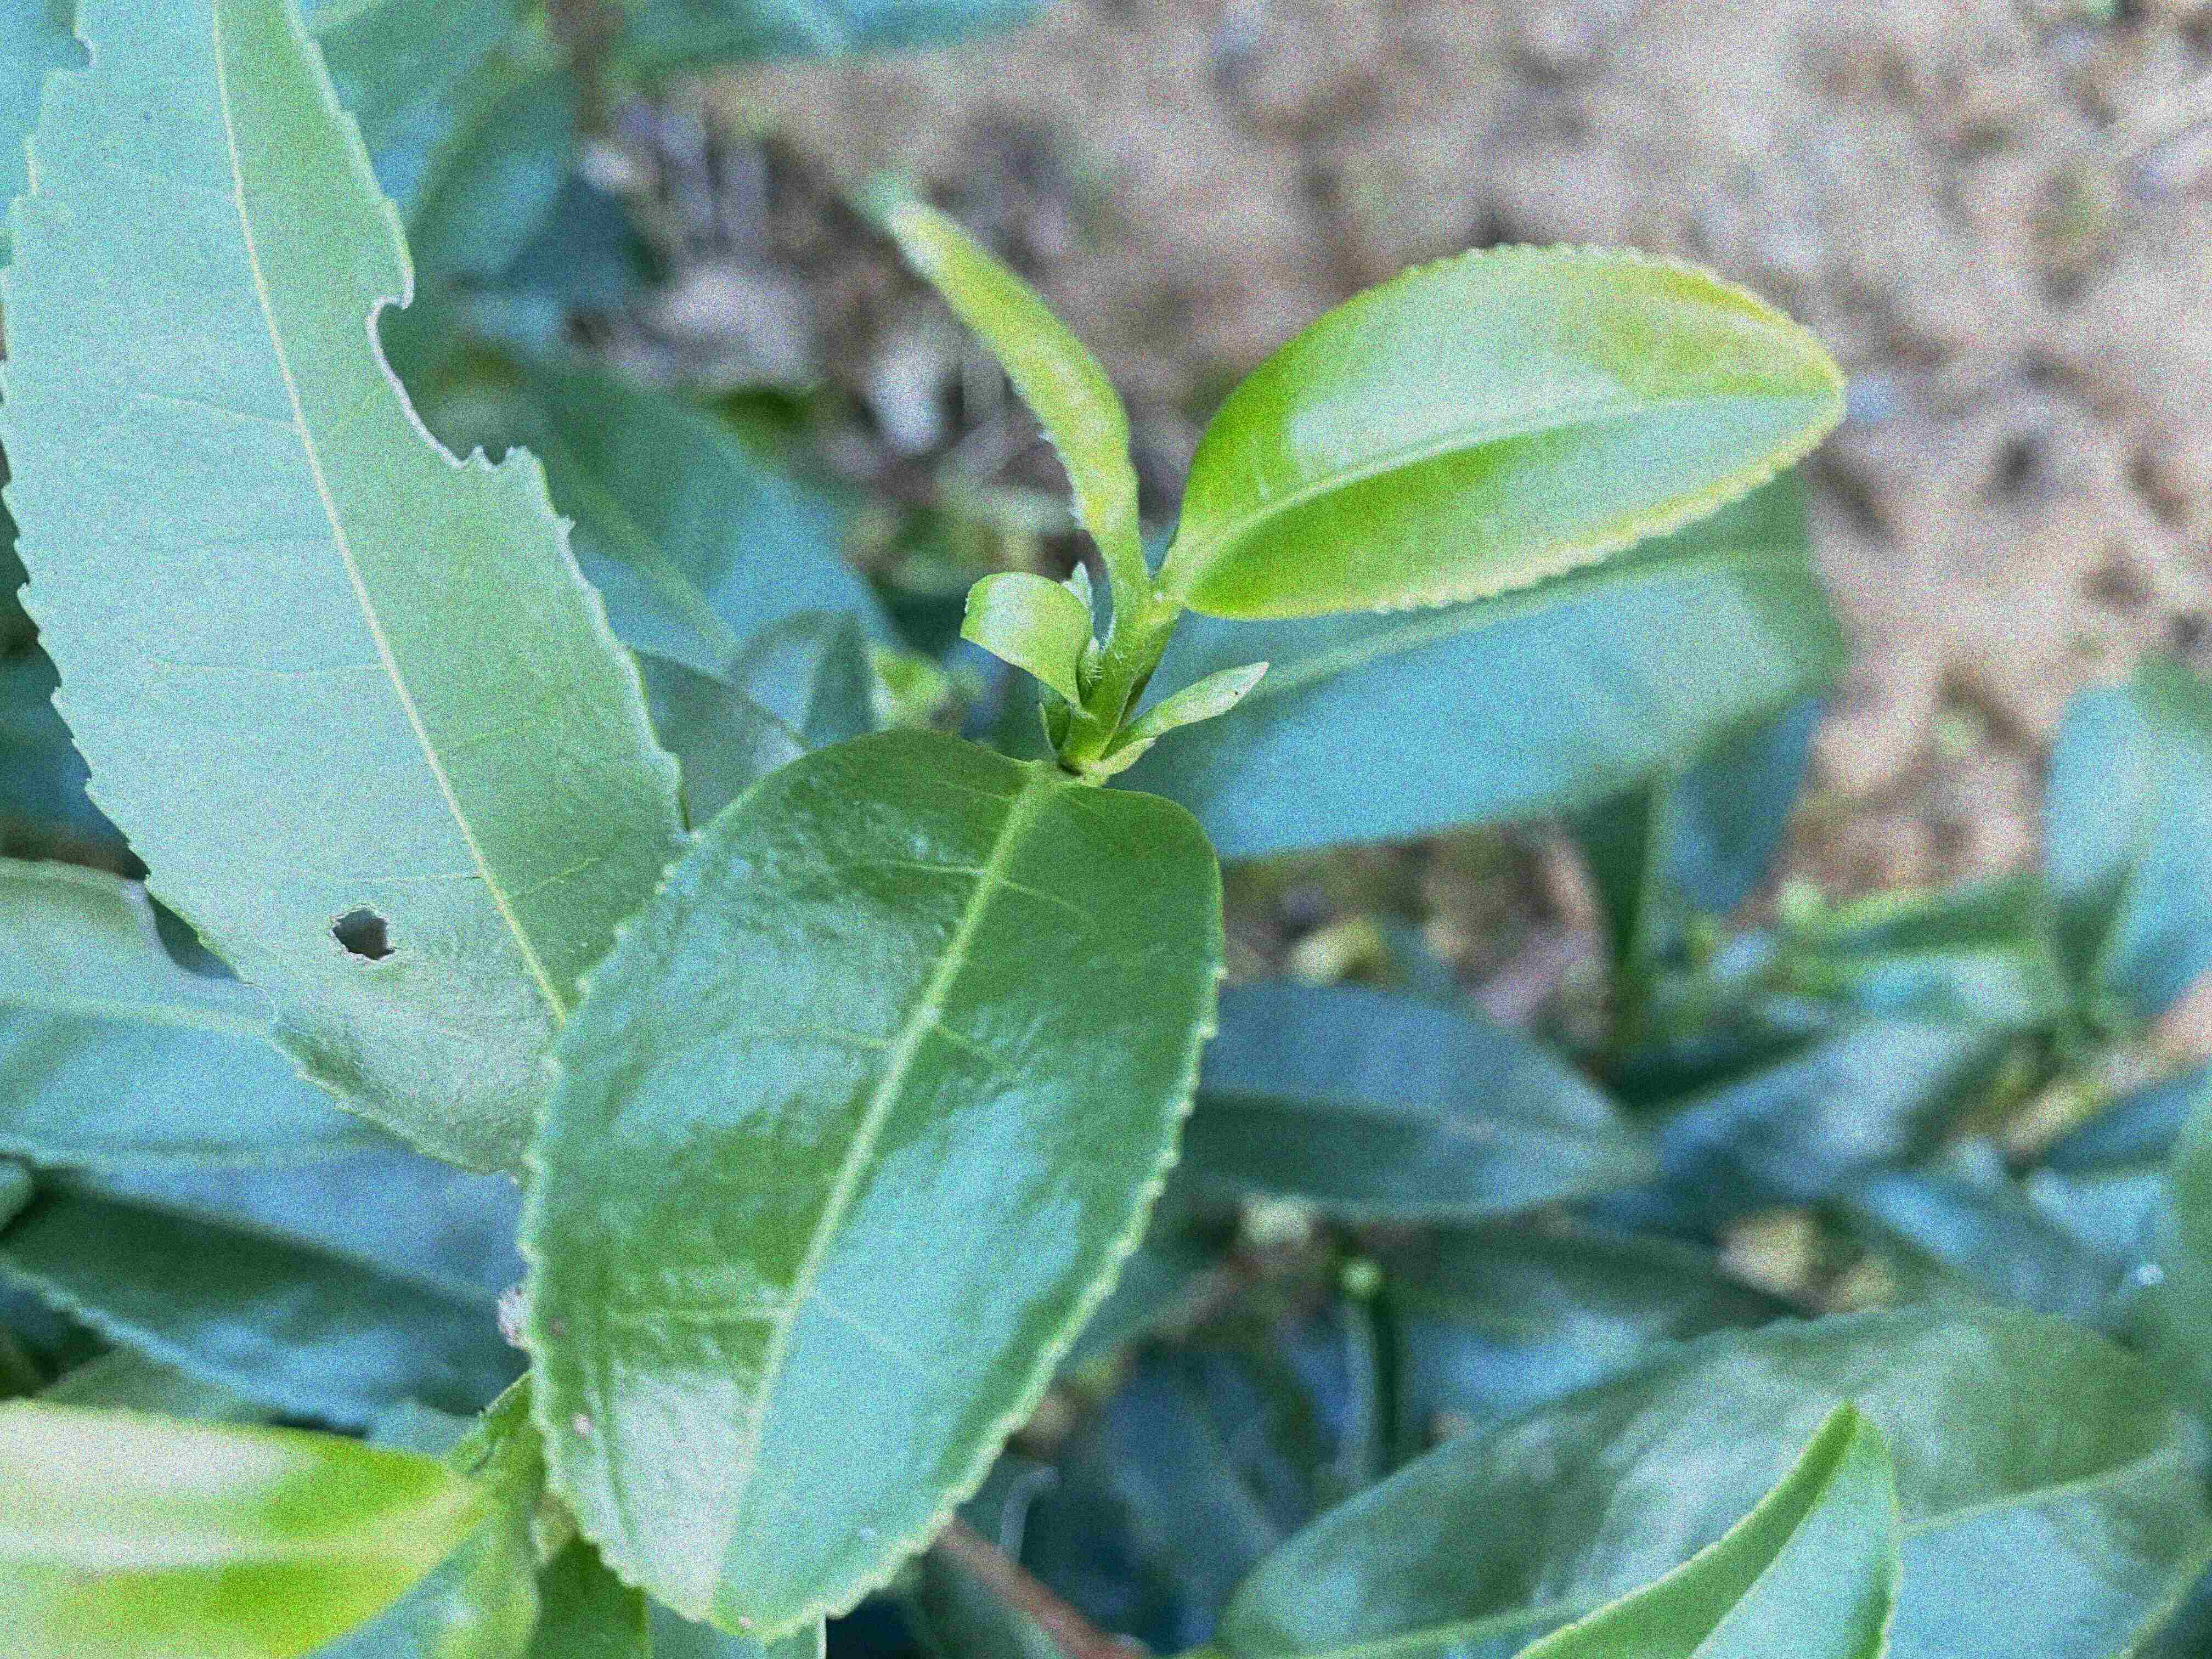chihuo_high: (3, 3, 695, 1192)
healthy: (1170, 242, 1853, 626)
tanju_low: (517, 728, 1226, 1643)
